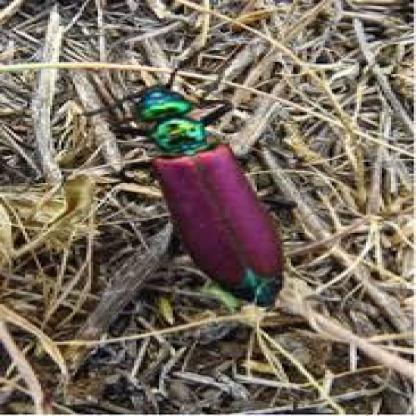blister beetle: (110, 86, 292, 304)
